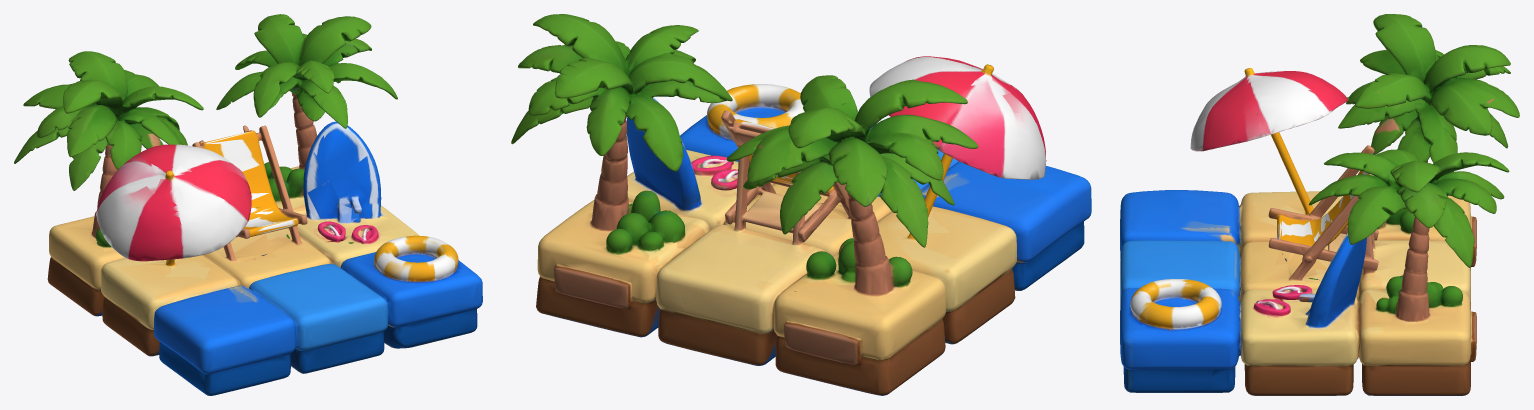
File: island-sample.glb
3 views of the same model, side by side, from view 1: azimuth 30°, elevation 25°; view 2: azimuth 150°, elevation 25°; view 3: azimuth 270°, elevation 25° (orthographic). The views are drawn at different scales.
Visible parts, largest first — view 1: Meshy_AI_Tropical_Beach_Getawa_0923060649_texture; view 2: Meshy_AI_Tropical_Beach_Getawa_0923060649_texture; view 3: Meshy_AI_Tropical_Beach_Getawa_0923060649_texture.
Part boxes in pixels (<box>): Meshy_AI_Tropical_Beach_Getawa_0923060649_texture: <box>14,14,482,395</box>; Meshy_AI_Tropical_Beach_Getawa_0923060649_texture: <box>511,14,1091,395</box>; Meshy_AI_Tropical_Beach_Getawa_0923060649_texture: <box>1120,14,1519,395</box>.
Bounding box in the file's own units: 1.9 × 1.19 × 1.81.
1 material, 1 textured.
